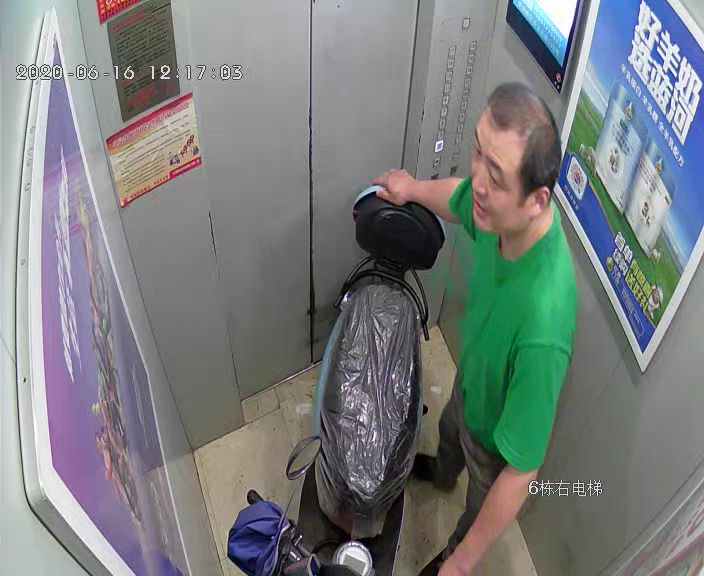Electric-bicycle: (243, 181, 447, 576)
